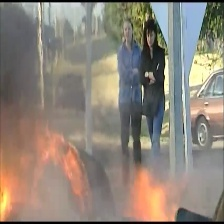fire: (121, 169, 180, 221)
